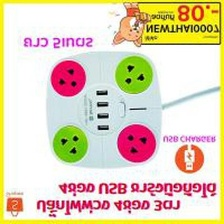three_eye_plug: (42, 47, 162, 174)
